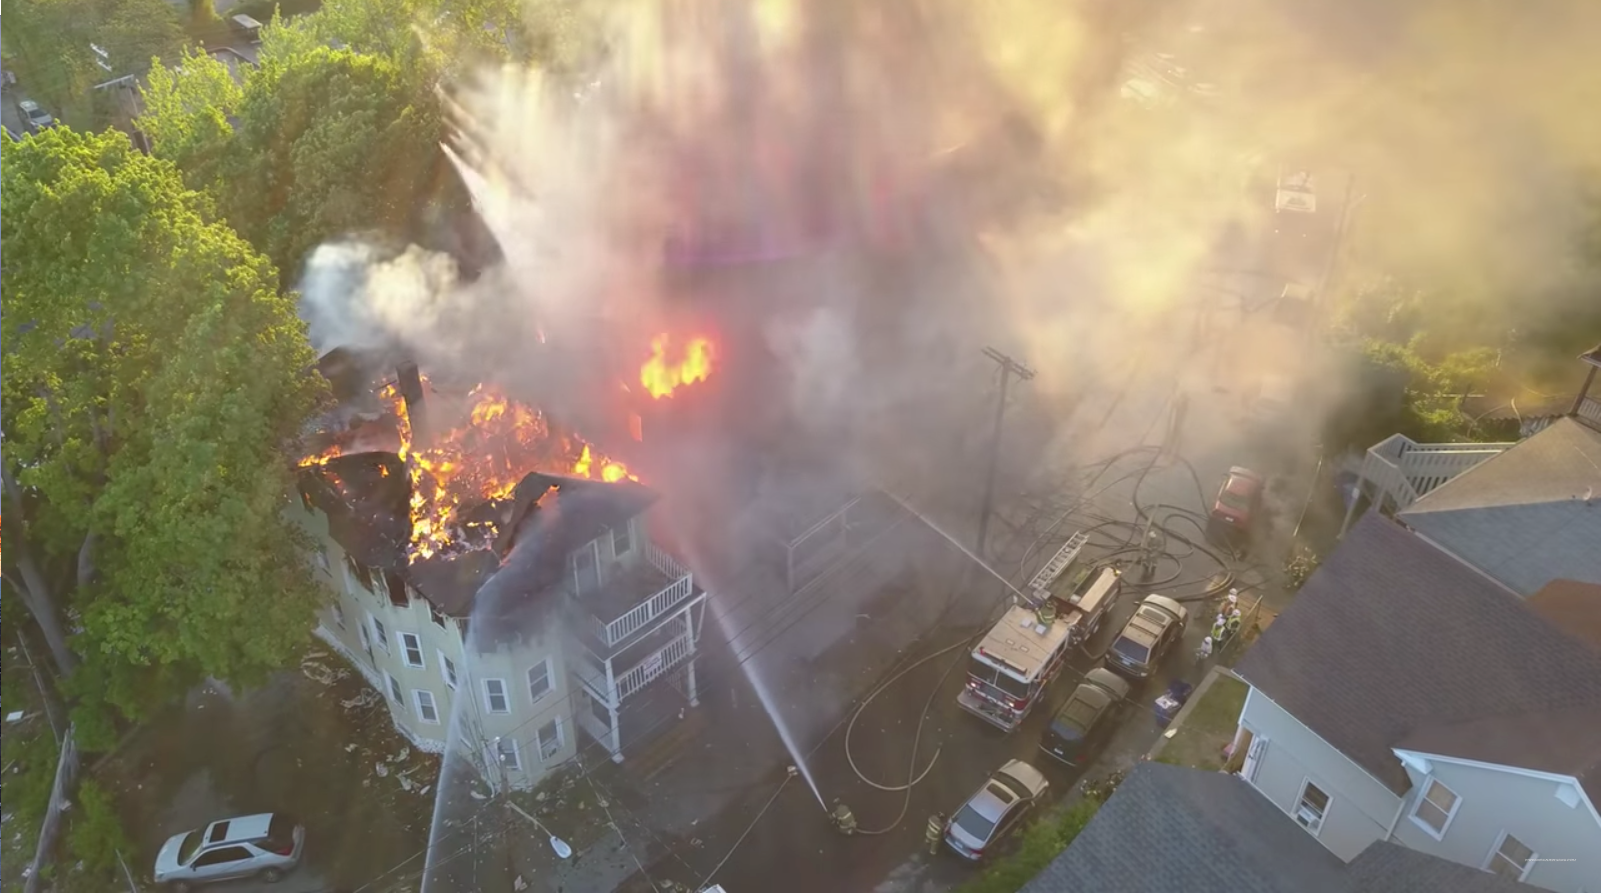fire: (384, 308, 733, 492)
